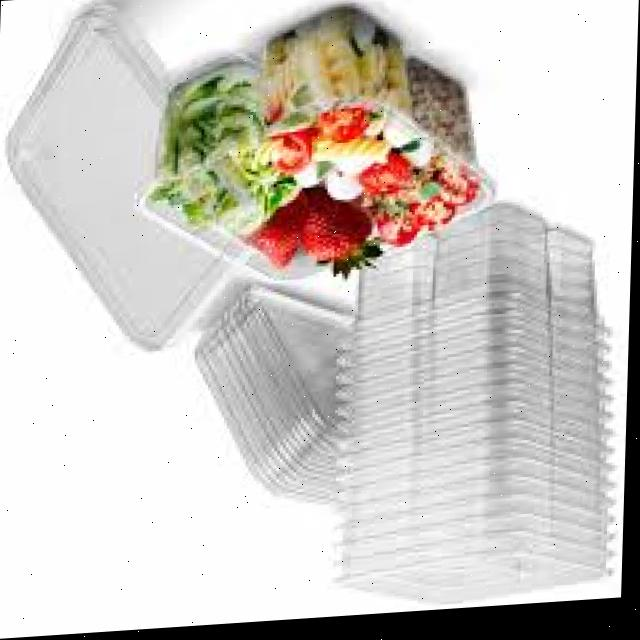disposable: (131, 12, 505, 330)
